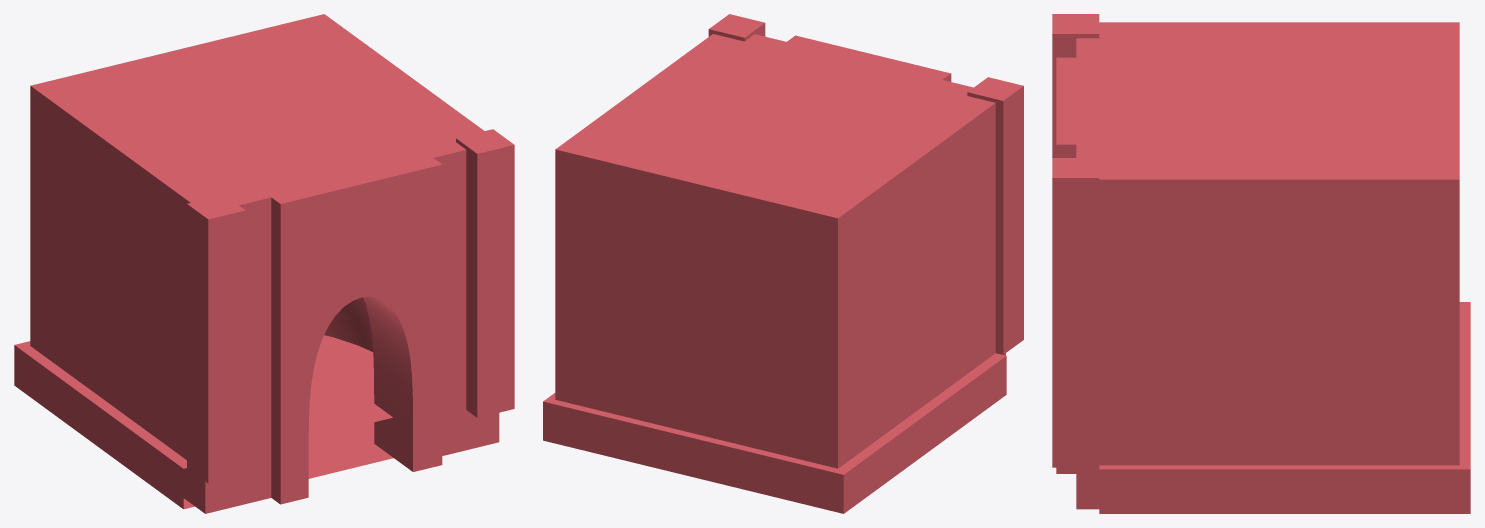
The model's file is WolfdenDen.fbx.
The picture shows the model from 3 angles, left to right: view 1: azimuth 30°, elevation 25°; view 2: azimuth 150°, elevation 25°; view 3: azimuth 270°, elevation 25°; orthographic projection. The views are drawn at different scales.
Parts seen in each view (by area): view 1: Cube.052, Cube.056, Cube.051, Plane.004, Sphere; view 2: Cube.052, Plane.004, Cube.051, Cube.056; view 3: Cube.052, Plane.004, Cube.051, Cube.056.
Part boxes in pixels (left/top/right/bottom): Cube.052: left=30, top=14, right=499, bottom=513; Cube.056: left=271, top=158, right=442, bottom=504; Cube.051: left=187, top=129, right=514, bottom=483; Plane.004: left=14, top=335, right=393, bottom=509; Sphere: left=324, top=297, right=373, bottom=351; Cube.052: left=555, top=34, right=1005, bottom=468; Plane.004: left=543, top=353, right=1006, bottom=513; Cube.051: left=708, top=14, right=1023, bottom=354; Cube.056: left=787, top=35, right=951, bottom=81; Cube.052: left=1076, top=22, right=1459, bottom=509; Plane.004: left=1099, top=302, right=1470, bottom=513; Cube.051: left=1052, top=14, right=1099, bottom=467; Cube.056: left=1056, top=57, right=1076, bottom=473.
Size of the model in its own units: 4803 by 4474 by 5073.
